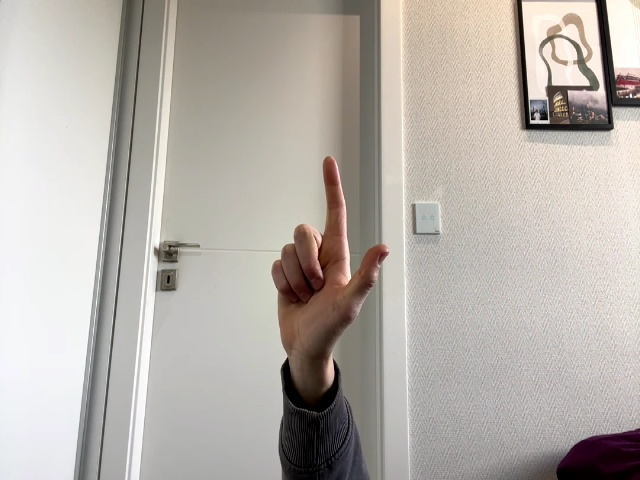L: (272, 157, 389, 370)
